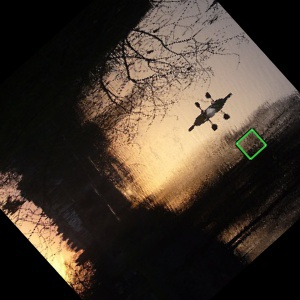square: (234, 126, 268, 162)
